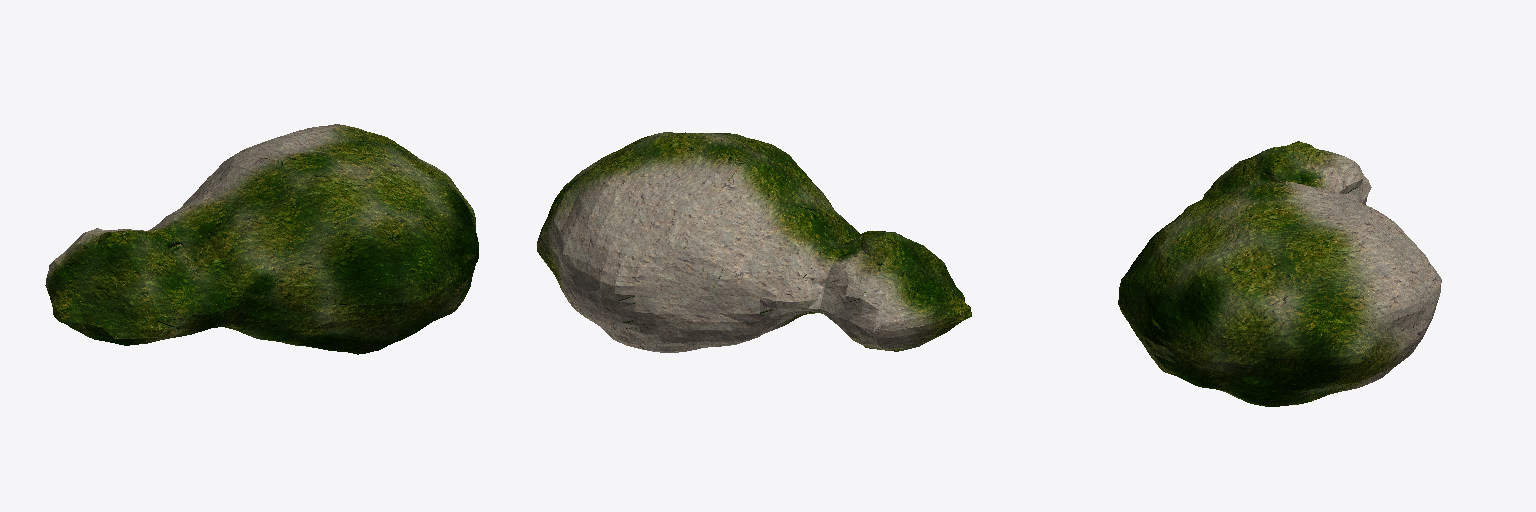
The picture shows the model from 3 angles: view 1: azimuth 30°, elevation 25°; view 2: azimuth 150°, elevation 25°; view 3: azimuth 270°, elevation 25°; orthographic projection.
Visible parts, largest first — view 1: rock3; view 2: rock3; view 3: rock3.
Boxes of the visible parts, box(x1,y1,x2,y2) form: rock3: box(45, 124, 478, 354); rock3: box(537, 132, 971, 352); rock3: box(1118, 141, 1441, 406).
Size of the model in its own units: 4.35 by 1.83 by 3.03.
Materials: 1 (1 with a texture image).